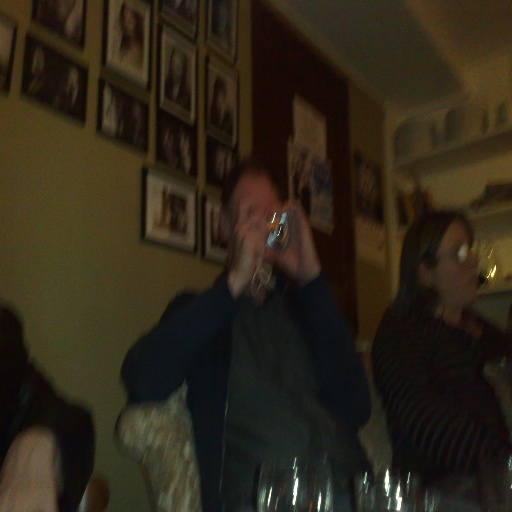hand: (227, 208, 270, 288), (282, 206, 321, 294)
